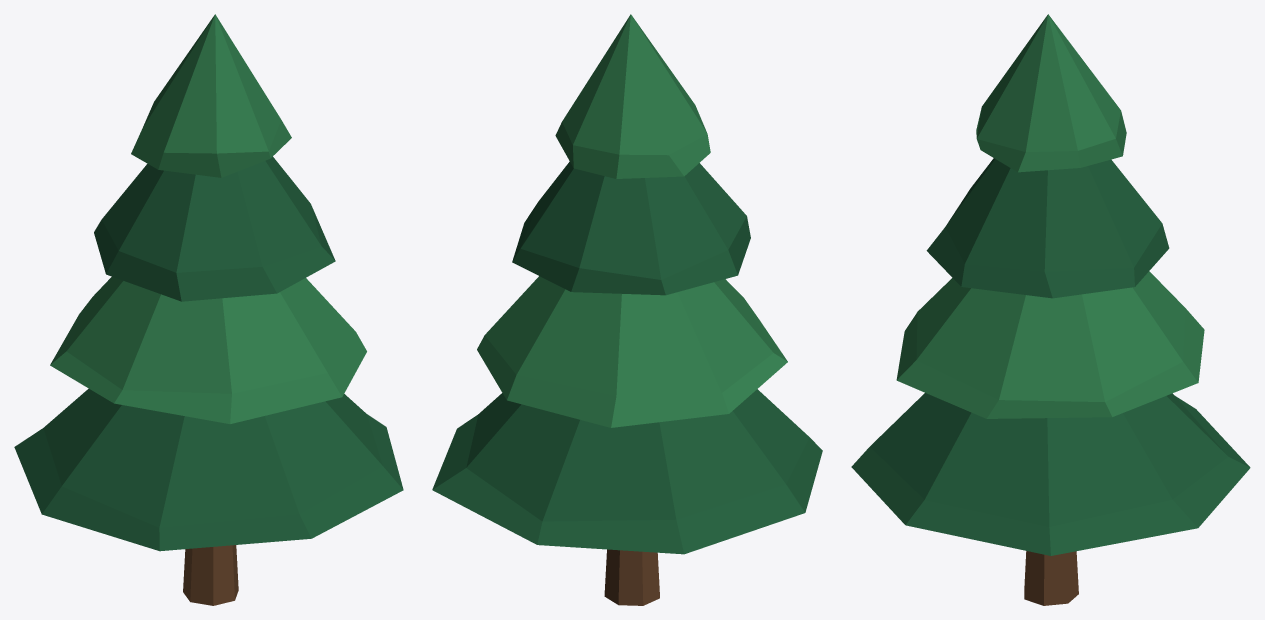
File: PineTree.fbx
The picture shows the model from 3 angles, left to right: view 1: azimuth 30°, elevation 25°; view 2: azimuth 150°, elevation 25°; view 3: azimuth 270°, elevation 25°; orthographic projection.
Visible parts, largest first — view 1: PineTree; view 2: PineTree; view 3: PineTree.
Boxes of the visible parts, x1,y1,x2,y2 form: PineTree: [14, 14, 403, 605]; PineTree: [432, 14, 822, 605]; PineTree: [851, 14, 1250, 605].
Bounding box in the file's own units: 8.38 × 13.39 × 8.34.
Materials: 1 (1 with a texture image).
